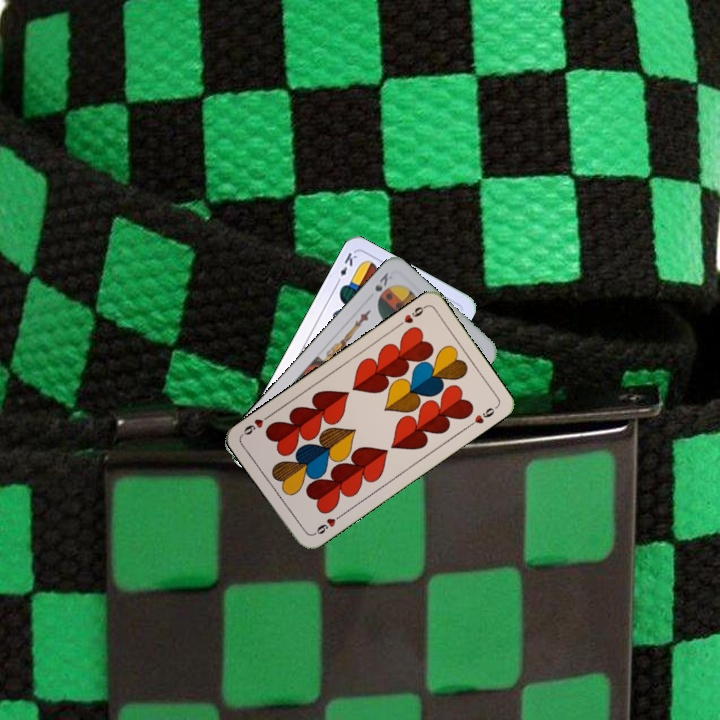EK: (332, 248, 359, 287)
H9: (309, 510, 345, 538), (393, 302, 429, 329)
SK: (371, 268, 395, 294)
